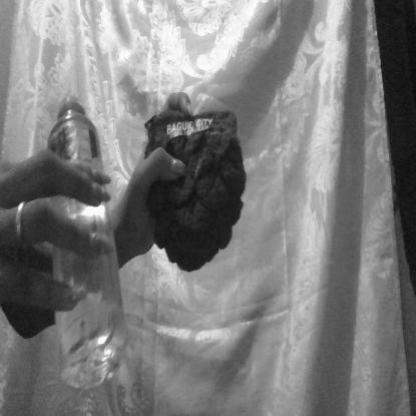Plastic Bottle: (31, 60, 147, 405)
